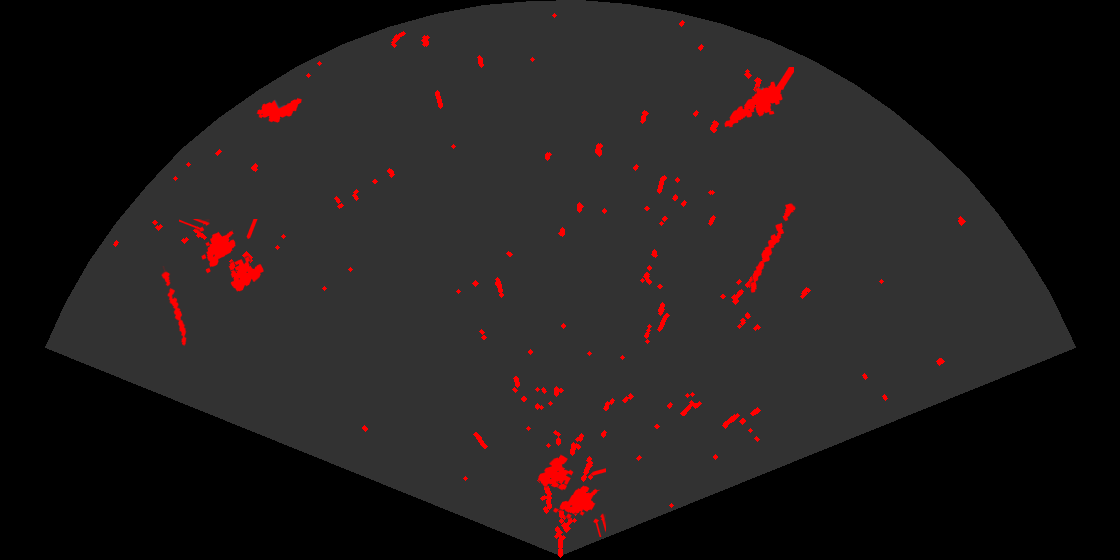AUV: (255, 96, 303, 124)
cage: (179, 219, 265, 293), (536, 453, 606, 537)
chain: (749, 202, 797, 294), (160, 266, 188, 348)
frogman: (723, 67, 794, 129)
